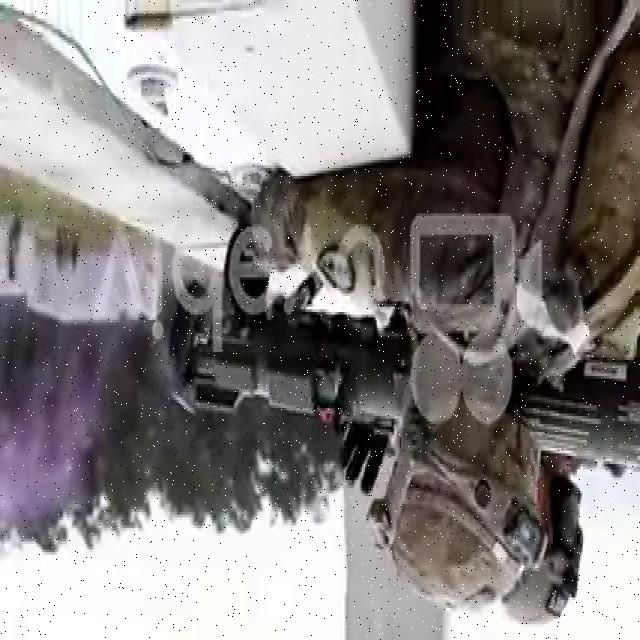bazooka: (169, 276, 640, 484)
